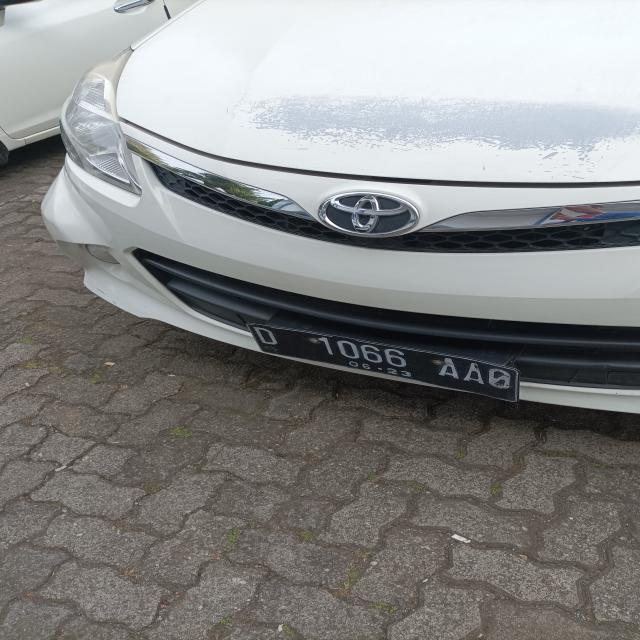license-plat: (237, 314, 537, 414)
